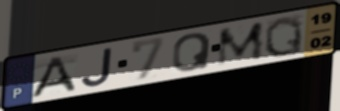7: (130, 34, 169, 83)
A: (28, 54, 78, 100)
J: (80, 46, 115, 88)
M: (215, 19, 266, 69)
Q: (170, 31, 213, 74), (263, 15, 304, 59)
